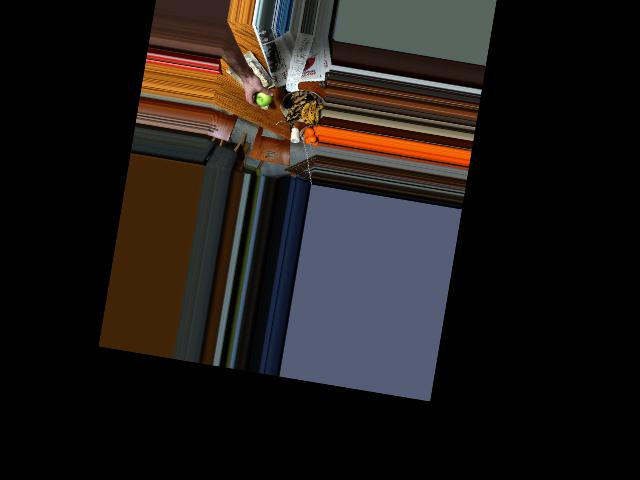apple: (250, 85, 274, 110)
